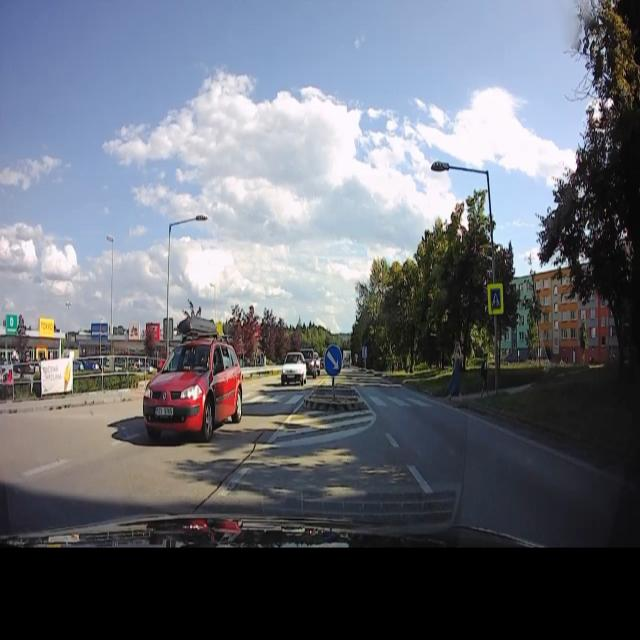Pedestrian crosswalk: (368, 388, 440, 410), (241, 388, 305, 407), (490, 286, 502, 311)
Person: (450, 331, 466, 402), (479, 348, 491, 398)
